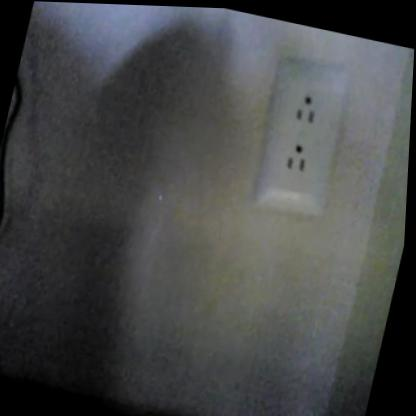OUTLET: (247, 52, 355, 223)
